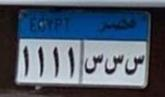1: (65, 47, 76, 76), (51, 46, 59, 77), (37, 46, 44, 78), (23, 46, 29, 77)
seen: (124, 54, 146, 76), (83, 52, 104, 75), (104, 54, 125, 76)
